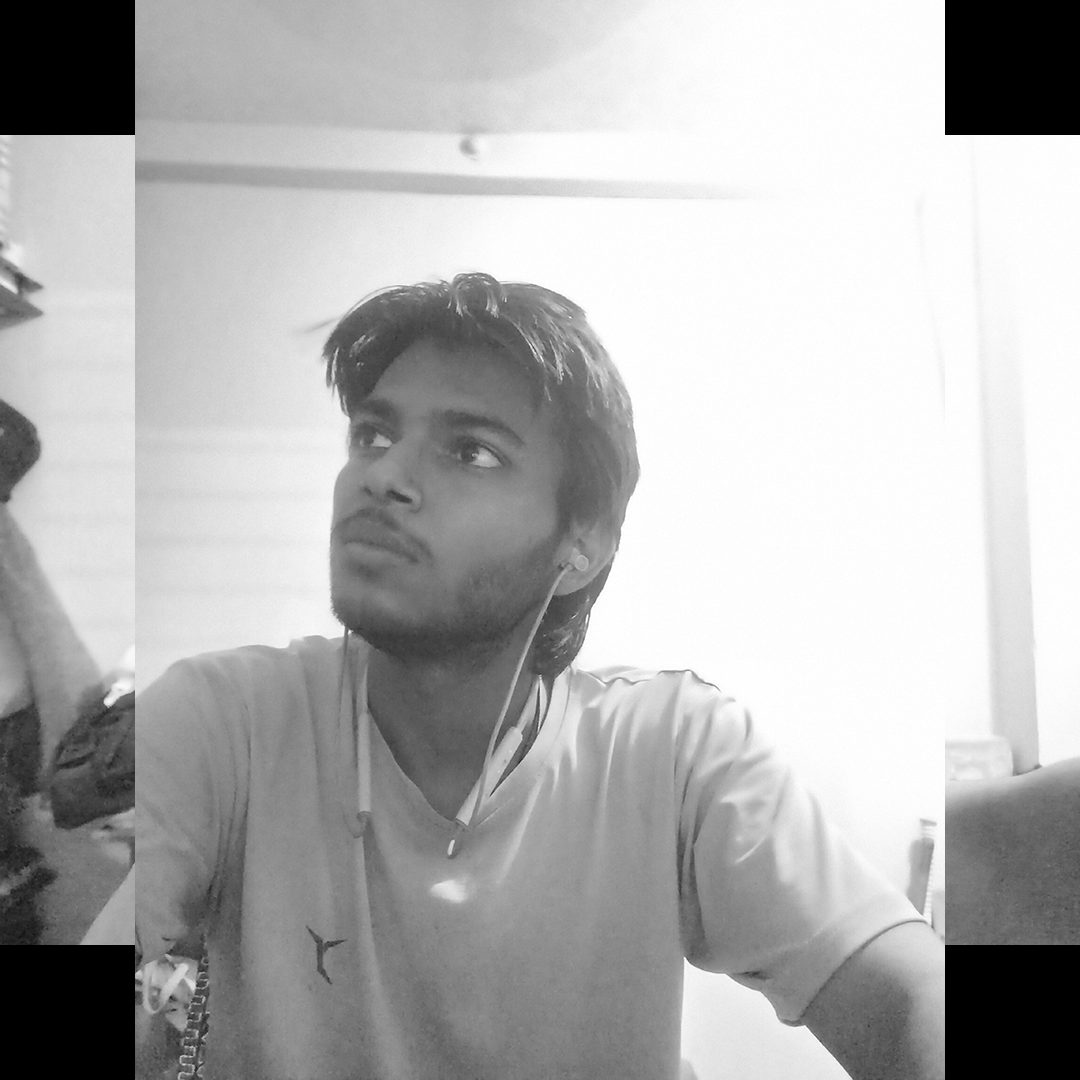distracted: (257, 230, 669, 807)
